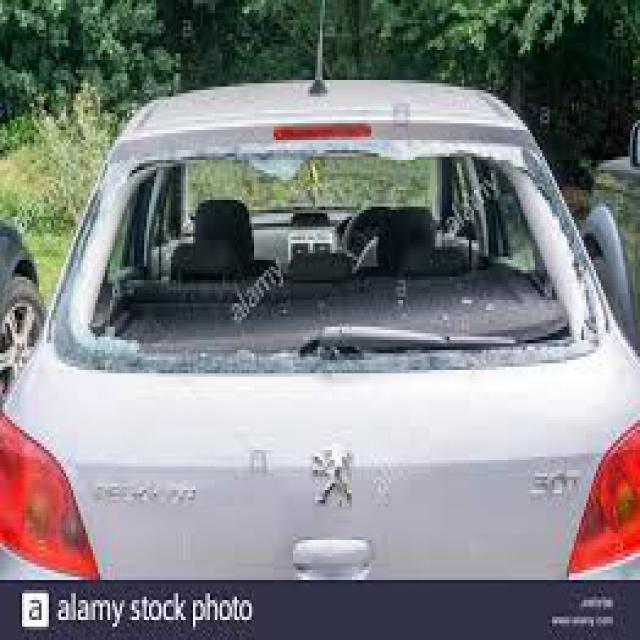Rear-windscreen-Damage: (78, 136, 591, 386)
